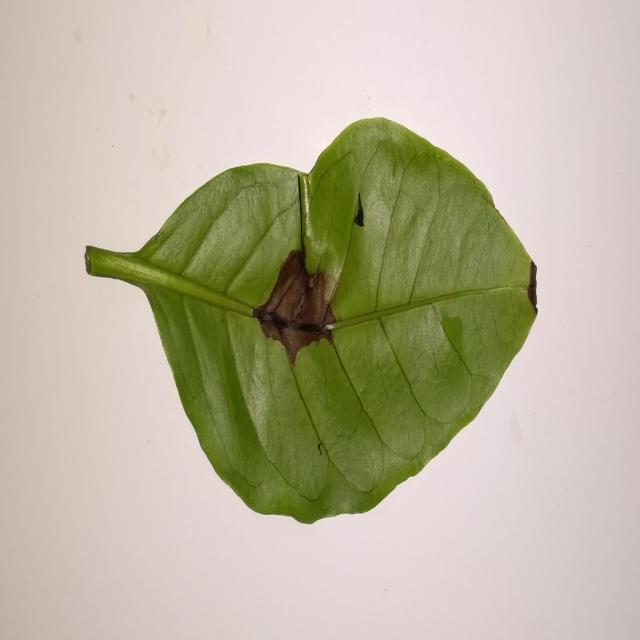phoma: (252, 246, 335, 367)
